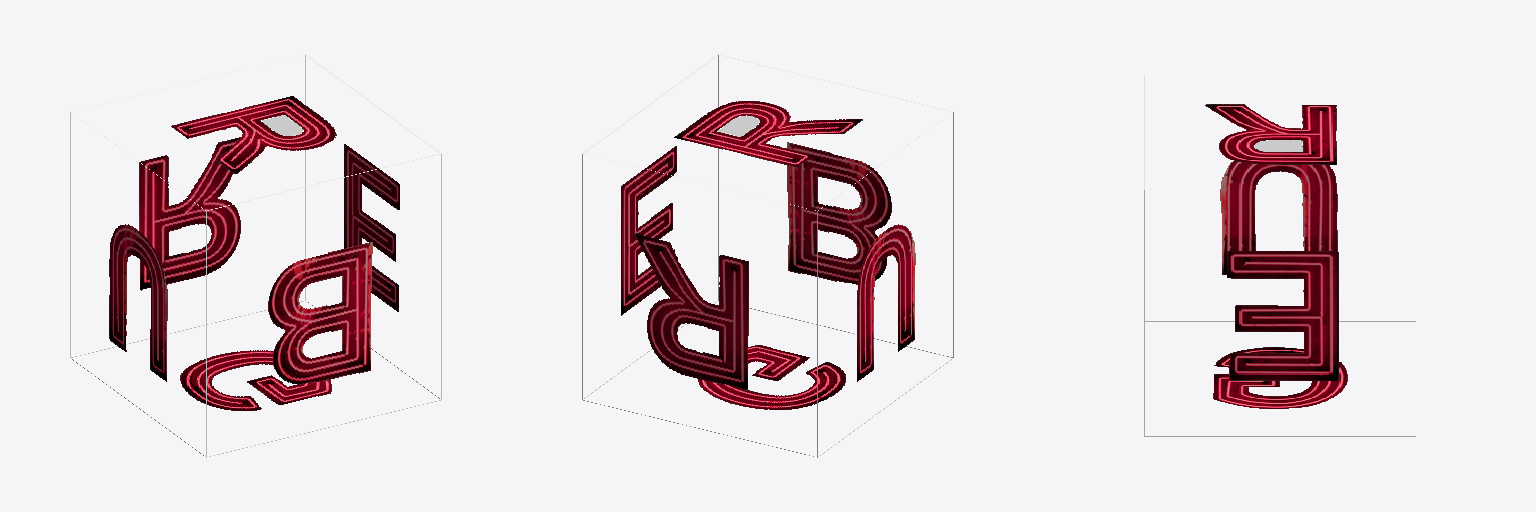
The picture shows the model from 3 angles: view 1: azimuth 30°, elevation 25°; view 2: azimuth 150°, elevation 25°; view 3: azimuth 270°, elevation 25°; orthographic projection.
Parts seen in each view (by area): view 1: Cube.001; view 2: Cube.001; view 3: Cube.001.
Part boxes in pixels (bbox=[...]): Cube.001: bbox=[70, 54, 441, 457]; Cube.001: bbox=[582, 54, 953, 457]; Cube.001: bbox=[1144, 75, 1415, 436].
Size of the model in its own units: 2 by 2 by 2.
Materials: 1 (1 with a texture image).